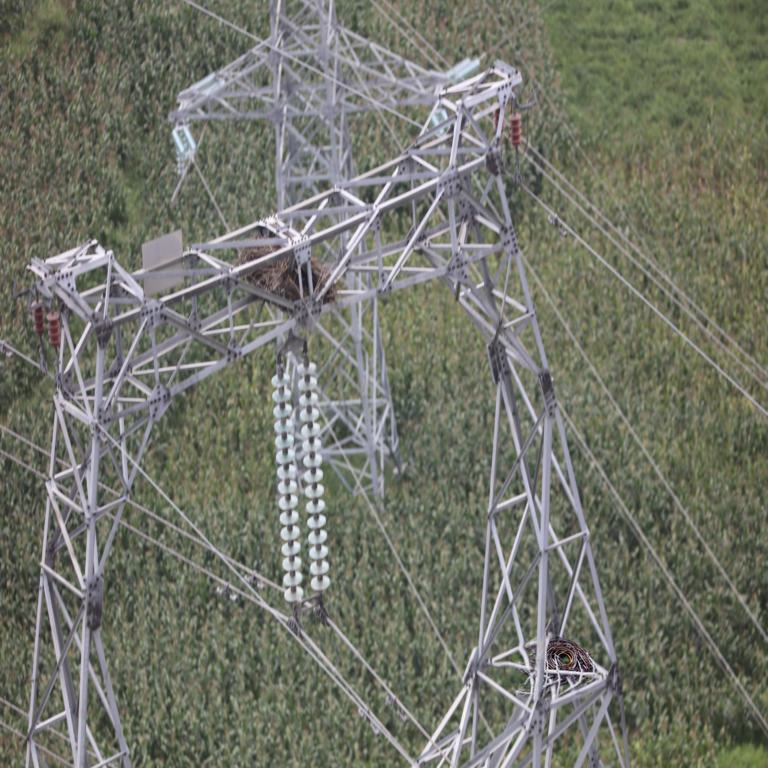nest: (236, 240, 343, 320), (532, 639, 596, 687)
